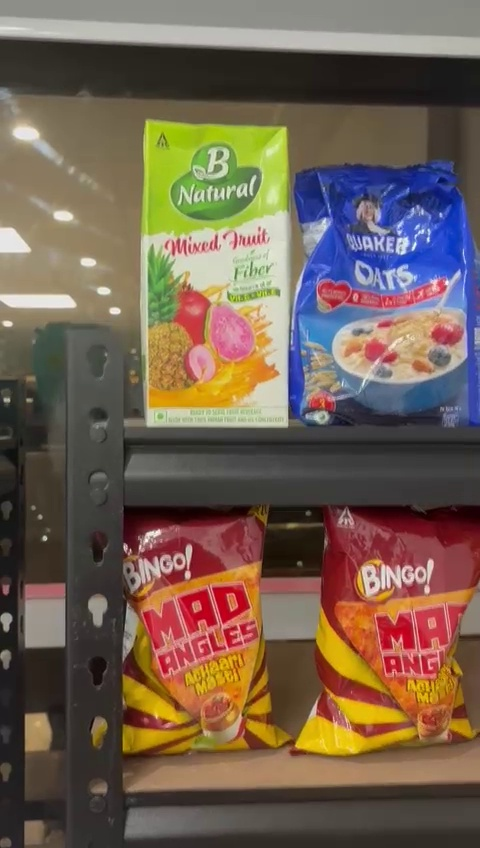Bingo Mad Angles: (123, 514, 276, 754), (320, 508, 466, 749)
Mixed Fruit: (140, 121, 290, 431)
Quaker Oats: (294, 159, 480, 426)
